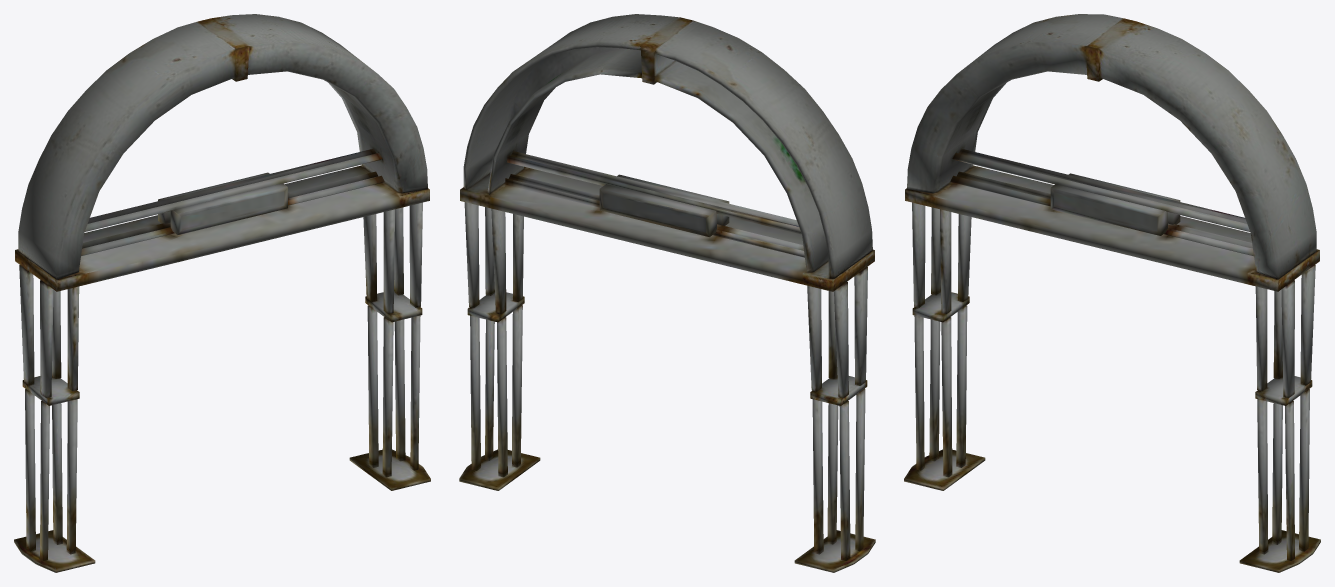
Rendered from gate.fbx.
The picture shows the model from 3 angles, left to right: view 1: azimuth 30°, elevation 25°; view 2: azimuth 150°, elevation 25°; view 3: azimuth 330°, elevation 25°; orthographic projection.
Parts seen in each view (by area): view 1: tripo_node_55615042; view 2: tripo_node_55615042; view 3: tripo_node_55615042.
Part boxes in pixels (x1=…): tripo_node_55615042: x1=14, y1=14, x2=430, y2=572; tripo_node_55615042: x1=459, y1=14, x2=875, y2=572; tripo_node_55615042: x1=904, y1=14, x2=1320, y2=572.
Size of the model in its own units: 431 by 509 by 80.65.
